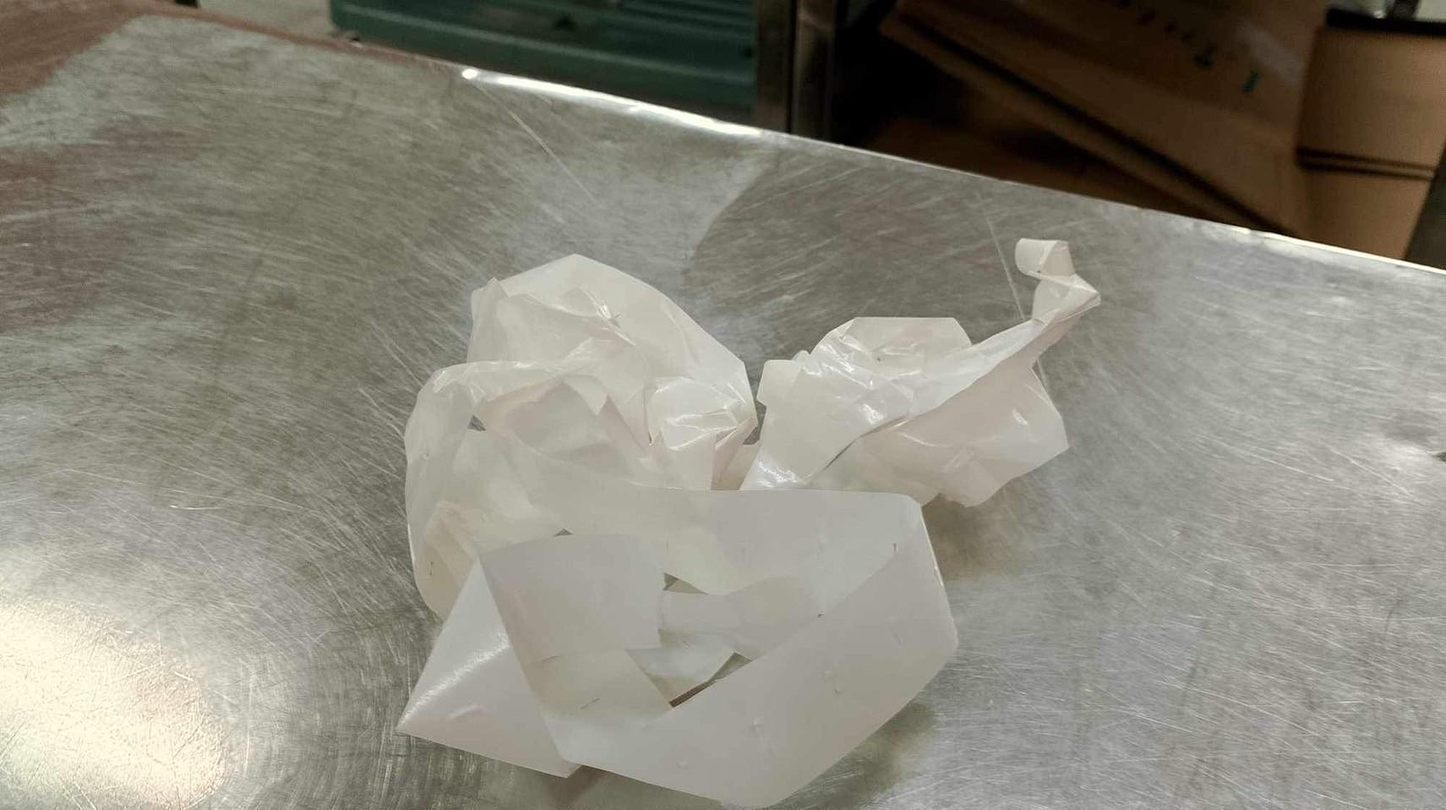General: (394, 233, 1102, 804)
Sharps: (456, 64, 614, 234)
